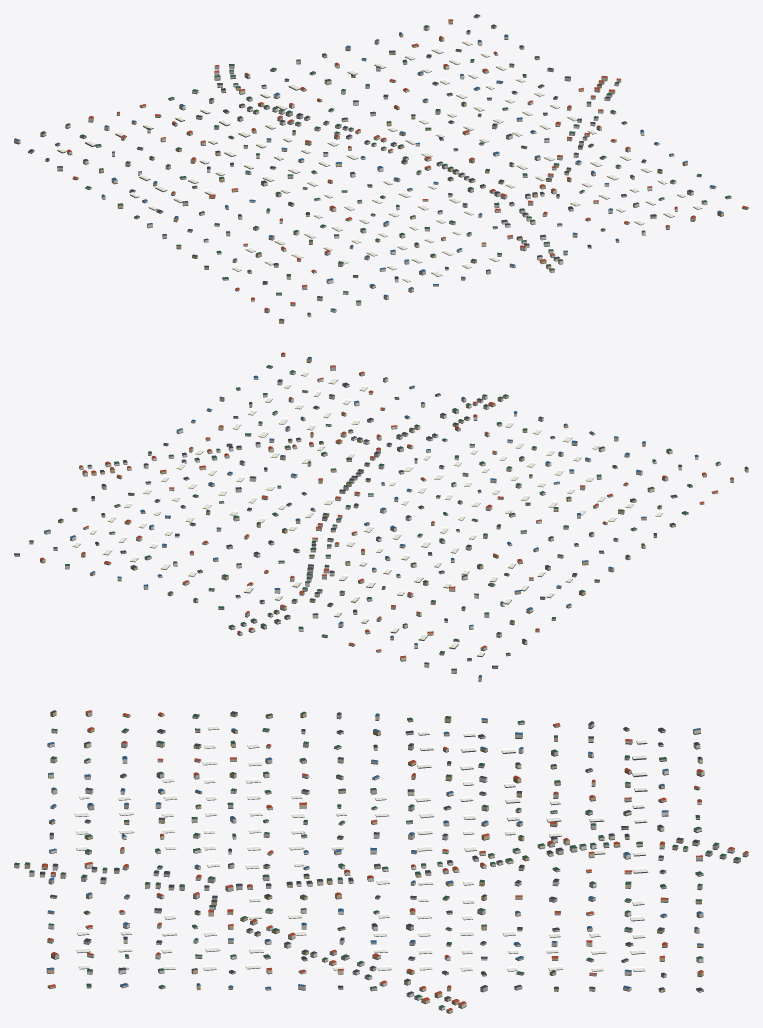
File: buildings_T_E00_S03.glb
3 views of the same model, one above another, from view 1: azimuth 30°, elevation 25°; view 2: azimuth 150°, elevation 25°; view 3: azimuth 270°, elevation 25° (orthographic). The views are drawn at different scales.
Parts seen in each view (by area): view 1: T_E00_S03_slope_seating_foundations, T_E00_S03_roofs_agri_greenhouse_arch, T_E00_S03_walls_wall_dalat_cream_stucco, T_E00_S03_walls_wall_pastel_sand_gray, T_E00_S03_roofs_roof_pine_green_hip, T_E00_S03_roofs_roof_slate_French_villa_hip, T_E00_S03_walls_wall_modern_warm_white, T_E00_S03_walls_wall_french_ochre_villa, T_E00_S03_roofs_roof_terracotta_gable, T_E00_S03_roofs_roof_highland_blue_gable; view 2: T_E00_S03_slope_seating_foundations, T_E00_S03_roofs_agri_greenhouse_arch, T_E00_S03_walls_wall_dalat_cream_stucco, T_E00_S03_roofs_roof_slate_French_villa_hip, T_E00_S03_roofs_roof_pine_green_hip, T_E00_S03_walls_wall_pastel_sand_gray, T_E00_S03_walls_wall_modern_warm_white, T_E00_S03_walls_wall_french_ochre_villa, T_E00_S03_roofs_roof_terracotta_gable, T_E00_S03_roofs_roof_highland_blue_gable; view 3: T_E00_S03_slope_seating_foundations, T_E00_S03_roofs_agri_greenhouse_arch, T_E00_S03_walls_wall_dalat_cream_stucco, T_E00_S03_roofs_roof_slate_French_villa_hip, T_E00_S03_roofs_roof_pine_green_hip, T_E00_S03_walls_wall_pastel_sand_gray, T_E00_S03_walls_wall_modern_warm_white, T_E00_S03_walls_wall_french_ochre_villa, T_E00_S03_roofs_roof_terracotta_gable, T_E00_S03_roofs_roof_highland_blue_gable.
Part boxes in pixels (box(x1,y1,x2,y2)): T_E00_S03_slope_seating_foundations: box(14, 16, 748, 323); T_E00_S03_roofs_agri_greenhouse_arch: box(57, 39, 702, 281); T_E00_S03_walls_wall_dalat_cream_stucco: box(14, 37, 674, 316); T_E00_S03_walls_wall_pastel_sand_gray: box(28, 31, 731, 312); T_E00_S03_roofs_roof_pine_green_hip: box(80, 25, 731, 314); T_E00_S03_roofs_roof_slate_French_villa_hip: box(28, 14, 693, 320); T_E00_S03_walls_wall_modern_warm_white: box(55, 15, 716, 312); T_E00_S03_walls_wall_french_ochre_villa: box(45, 20, 748, 323); T_E00_S03_roofs_roof_terracotta_gable: box(67, 19, 748, 309); T_E00_S03_roofs_roof_highland_blue_gable: box(14, 32, 723, 310); T_E00_S03_slope_seating_foundations: box(14, 356, 748, 681); T_E00_S03_roofs_agri_greenhouse_arch: box(72, 371, 662, 656); T_E00_S03_walls_wall_dalat_cream_stucco: box(44, 391, 720, 680); T_E00_S03_roofs_roof_slate_French_villa_hip: box(14, 379, 748, 670); T_E00_S03_roofs_roof_pine_green_hip: box(65, 365, 720, 653); T_E00_S03_walls_wall_pastel_sand_gray: box(53, 366, 733, 668); T_E00_S03_walls_wall_modern_warm_white: box(14, 371, 698, 660); T_E00_S03_walls_wall_french_ochre_villa: box(29, 355, 748, 655); T_E00_S03_roofs_roof_terracotta_gable: box(40, 352, 733, 657); T_E00_S03_roofs_roof_highland_blue_gable: box(44, 356, 698, 677); T_E00_S03_slope_seating_foundations: box(14, 715, 748, 1013); T_E00_S03_roofs_agri_greenhouse_arch: box(74, 725, 648, 971); T_E00_S03_walls_wall_dalat_cream_stucco: box(14, 714, 704, 1013); T_E00_S03_roofs_roof_slate_French_villa_hip: box(40, 710, 703, 998); T_E00_S03_roofs_roof_pine_green_hip: box(14, 711, 740, 1007); T_E00_S03_walls_wall_pastel_sand_gray: box(47, 711, 748, 991); T_E00_S03_walls_wall_modern_warm_white: box(29, 722, 734, 1009); T_E00_S03_walls_wall_french_ochre_villa: box(24, 711, 703, 1004); T_E00_S03_roofs_roof_terracotta_gable: box(41, 710, 748, 1010); T_E00_S03_roofs_roof_highland_blue_gable: box(47, 713, 703, 988).
Bounding box in the file's own units: 1858 × 70.59 × 1924.
